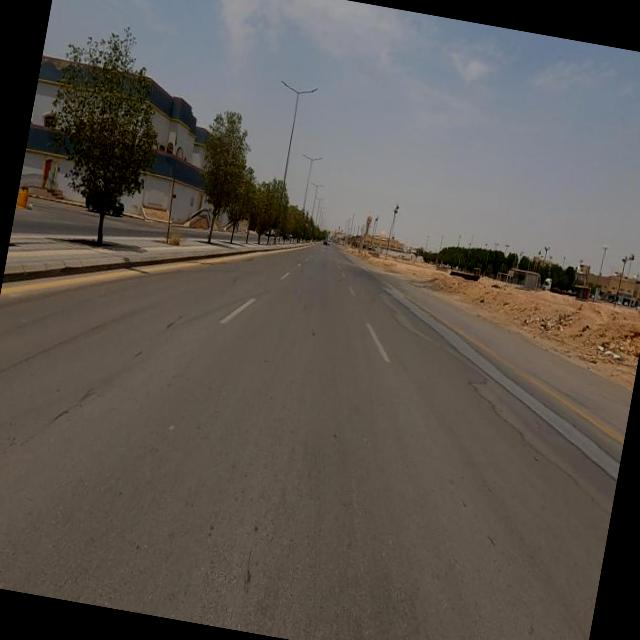debris: (559, 307, 640, 393), (12, 180, 52, 233)
